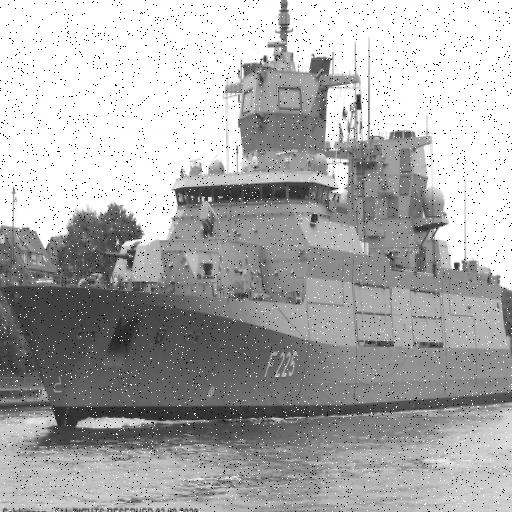Fragata: (2, 1, 512, 431)
